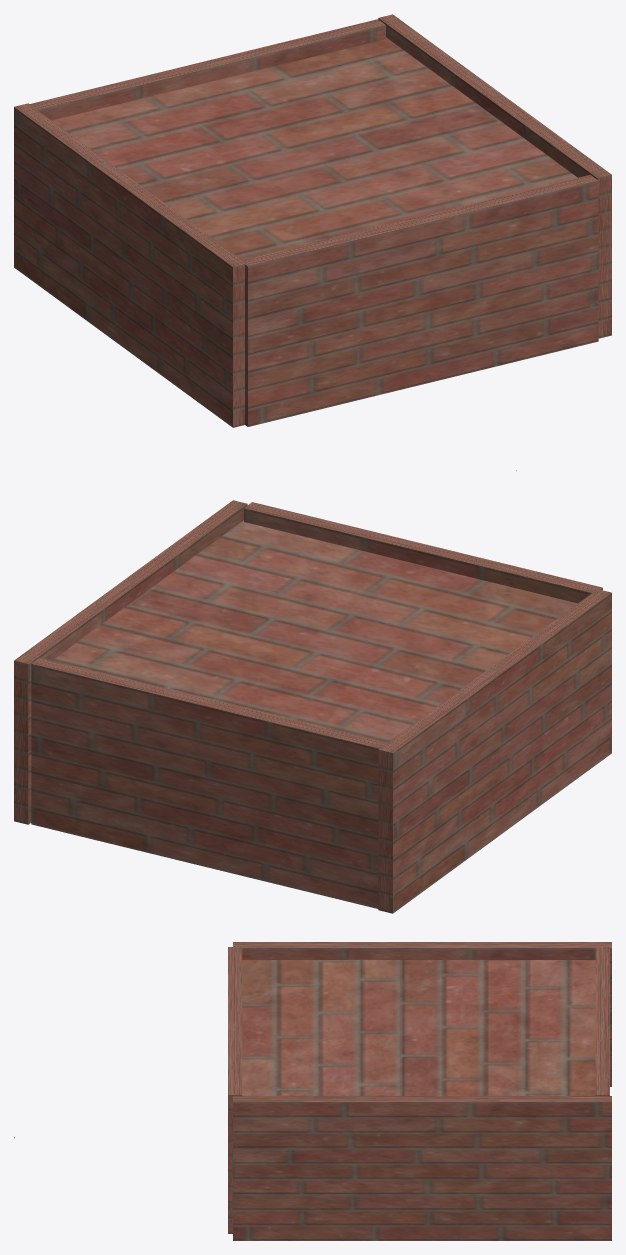
Rendered from Cuarto.obj.
The picture shows the model from 3 angles, top to bottom: view 1: azimuth 30°, elevation 25°; view 2: azimuth 150°, elevation 25°; view 3: azimuth 270°, elevation 25°; orthographic projection. The views are drawn at different scales.
Parts seen in each view (by area): view 1: Cuarto:pCube69, Cuarto:pCube63, Cuarto:pCube66, Cuarto:pCube65, Cuarto:pCube64; view 2: Cuarto:pCube69, Cuarto:pCube64, Cuarto:pCube66, Cuarto:pCube65, Cuarto:pCube63; view 3: Cuarto:pCube65, Cuarto:pCube69, Cuarto:pCube66, Cuarto:pCube63, Cuarto:pCube64.
Boxes of the visible parts, box(x1,y1,x2,y2) form: Cuarto:pCube69: box(52, 37, 577, 259); Cuarto:pCube63: box(242, 175, 598, 426); Cuarto:pCube66: box(14, 103, 246, 427); Cuarto:pCube65: box(378, 14, 611, 338); Cuarto:pCube64: box(27, 19, 385, 120); Cuarto:pCube69: box(52, 520, 577, 742); Cuarto:pCube64: box(31, 657, 389, 908); Cuarto:pCube66: box(378, 590, 611, 913); Cuarto:pCube65: box(14, 500, 247, 824); Cuarto:pCube63: box(244, 502, 602, 603); Cuarto:pCube65: box(233, 1096, 611, 1240); Cuarto:pCube69: box(242, 960, 595, 1095); Cuarto:pCube66: box(233, 942, 611, 1086); Cuarto:pCube63: box(228, 947, 242, 1233); Cuarto:pCube64: box(595, 947, 609, 1095).
Size of what is drawn, in the model's own units: 26.28 by 10.86 by 41.54.
